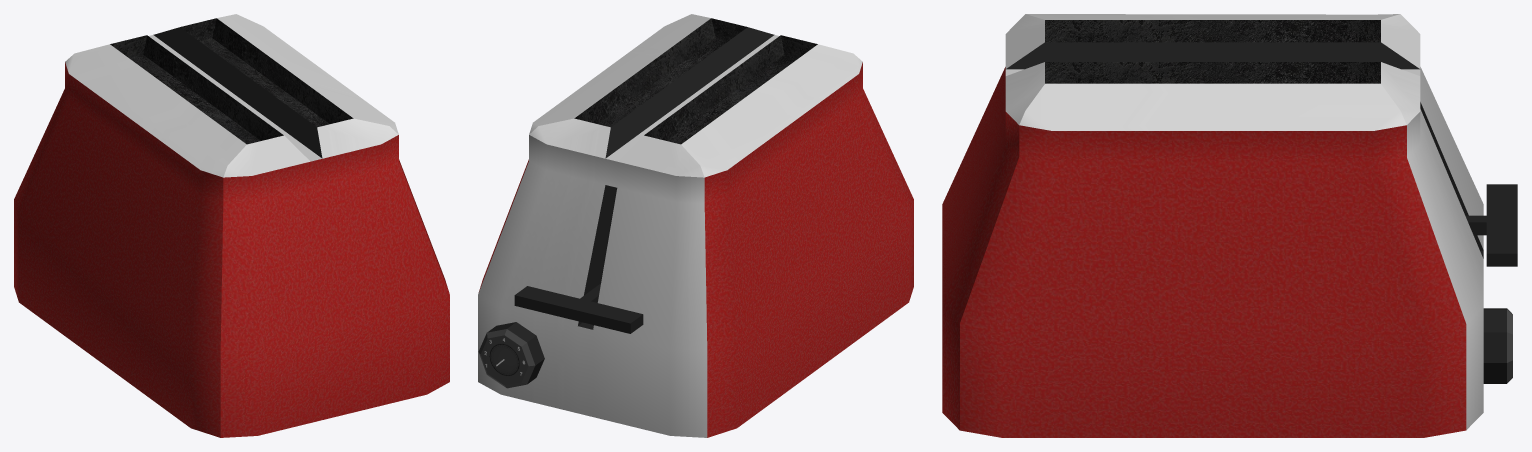
Rendered from toaster.glb.
3 renders of one model, left to right at view 1: azimuth 30°, elevation 25°; view 2: azimuth 150°, elevation 25°; view 3: azimuth 270°, elevation 25°, orthographic. The views are drawn at different scales.
Parts seen in each view (by area): view 1: pCylinder75; view 2: pCylinder75; view 3: pCylinder75.
Part boxes in pixels (x1,y1,x2,y2): pCylinder75: (14, 14, 449, 437); pCylinder75: (478, 14, 913, 437); pCylinder75: (942, 14, 1517, 437).
Bounding box in the file's own units: 0.0195 × 0.0186 × 0.0313.
Materials: 5 (4 with a texture image).
